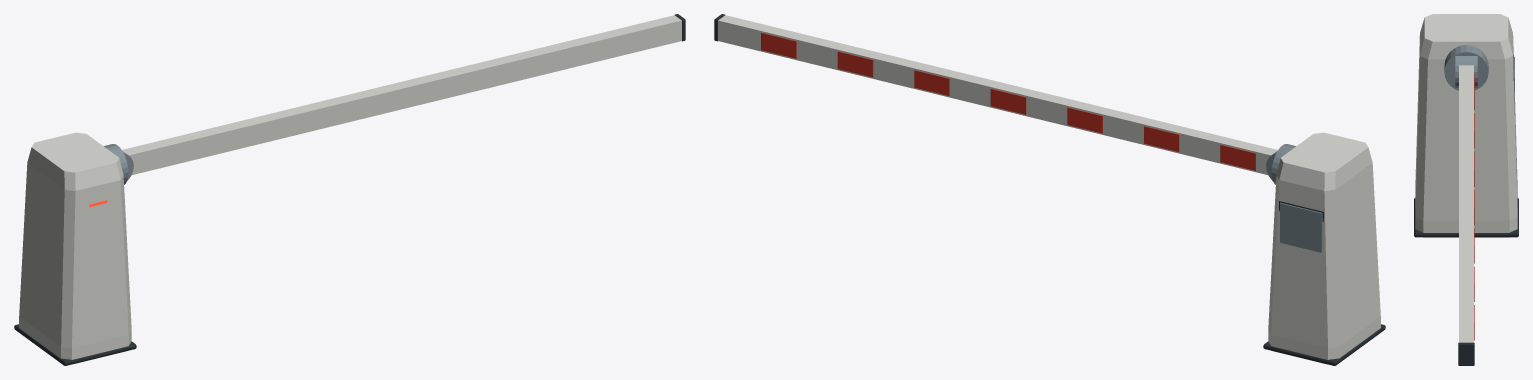
The model's file is SIMUS_Parking_ExitGate.fbx.
3 views of the same model, side by side, from view 1: azimuth 30°, elevation 25°; view 2: azimuth 150°, elevation 25°; view 3: azimuth 270°, elevation 25° (orthographic). The views are drawn at different scales.
Parts seen in each view (by area): view 1: COL_PARKING_GATE_EXIT_BODY, EXIT_Arm, COL_EXIT_Arm, PARKING_GATE_EXIT_BODY, EXIT_BaseGasket; view 2: COL_PARKING_GATE_EXIT_BODY, COL_EXIT_Arm, PARKING_GATE_EXIT_BODY, EXIT_Arm, EXIT_ServiceDoor, EXIT_BaseGasket, EXIT_Reflector_03, EXIT_Reflector_05, EXIT_Reflector_02, EXIT_Reflector_06, EXIT_Reflector_00, EXIT_Reflector_01 (+1 smaller); view 3: COL_PARKING_GATE_EXIT_BODY, PARKING_GATE_EXIT_BODY, COL_EXIT_Arm, EXIT_Arm, EXIT_HingeShaft, EXIT_BaseGasket, EXIT_PivotCap, EXIT_ArmEndCap.
Part boxes in pixels (x1=…): COL_PARKING_GATE_EXIT_BODY: x1=19, y1=132, x2=131, y2=364; EXIT_Arm: x1=125, y1=18, x2=681, y2=172; COL_EXIT_Arm: x1=122, y1=15, x2=681, y2=174; PARKING_GATE_EXIT_BODY: x1=19, y1=133, x2=131, y2=359; EXIT_BaseGasket: x1=14, y1=324, x2=136, y2=365; COL_PARKING_GATE_EXIT_BODY: x1=1268, y1=132, x2=1380, y2=364; COL_EXIT_Arm: x1=718, y1=15, x2=1277, y2=174; PARKING_GATE_EXIT_BODY: x1=1268, y1=133, x2=1380, y2=357; EXIT_Arm: x1=718, y1=17, x2=1268, y2=171; EXIT_ServiceDoor: x1=1280, y1=202, x2=1322, y2=252; EXIT_BaseGasket: x1=1263, y1=324, x2=1385, y2=365; EXIT_Reflector_03: x1=990, y1=89, x2=1026, y2=114; EXIT_Reflector_05: x1=837, y1=51, x2=873, y2=77; EXIT_Reflector_02: x1=1067, y1=107, x2=1102, y2=133; EXIT_Reflector_06: x1=761, y1=32, x2=796, y2=58; EXIT_Reflector_00: x1=1220, y1=145, x2=1255, y2=170; EXIT_Reflector_01: x1=1144, y1=126, x2=1179, y2=151; COL_PARKING_GATE_EXIT_BODY: x1=1415, y1=14, x2=1517, y2=237; PARKING_GATE_EXIT_BODY: x1=1415, y1=14, x2=1517, y2=232; COL_EXIT_Arm: x1=1459, y1=65, x2=1473, y2=342; EXIT_Arm: x1=1460, y1=65, x2=1472, y2=342; EXIT_HingeShaft: x1=1444, y1=45, x2=1488, y2=90; EXIT_BaseGasket: x1=1414, y1=198, x2=1518, y2=237; EXIT_PivotCap: x1=1455, y1=56, x2=1477, y2=88; EXIT_ArmEndCap: x1=1458, y1=342, x2=1474, y2=365.
Size of the model in its own units: 328 by 91 by 45.
